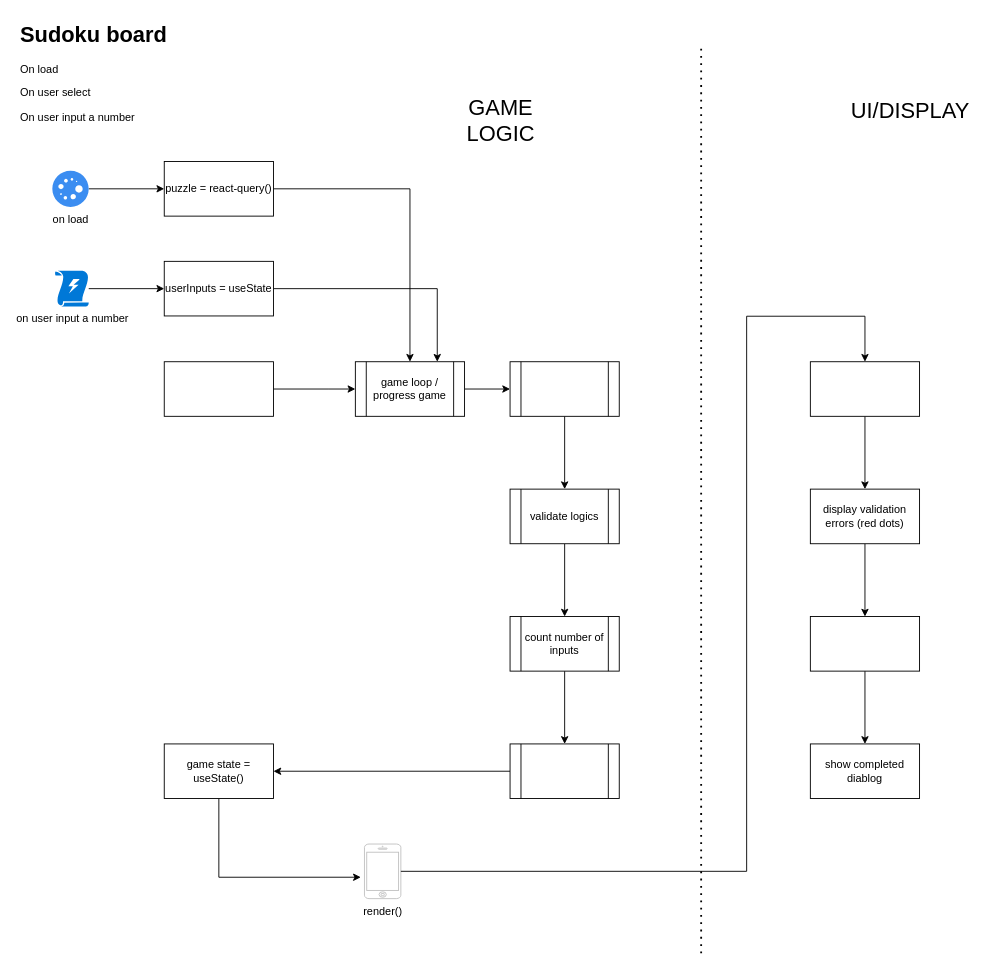
Some shapes in this 985 by 970 pixel diagram are drawn without their labels. Each missing label, with the box of its shape:
compare with solution/update activity state: (509, 743, 619, 799)
create 2d matrix: (509, 361, 619, 416)
disable user input button: (809, 616, 920, 671)
display groups and cells: (809, 361, 920, 416)
useEffect: (163, 361, 273, 416)
